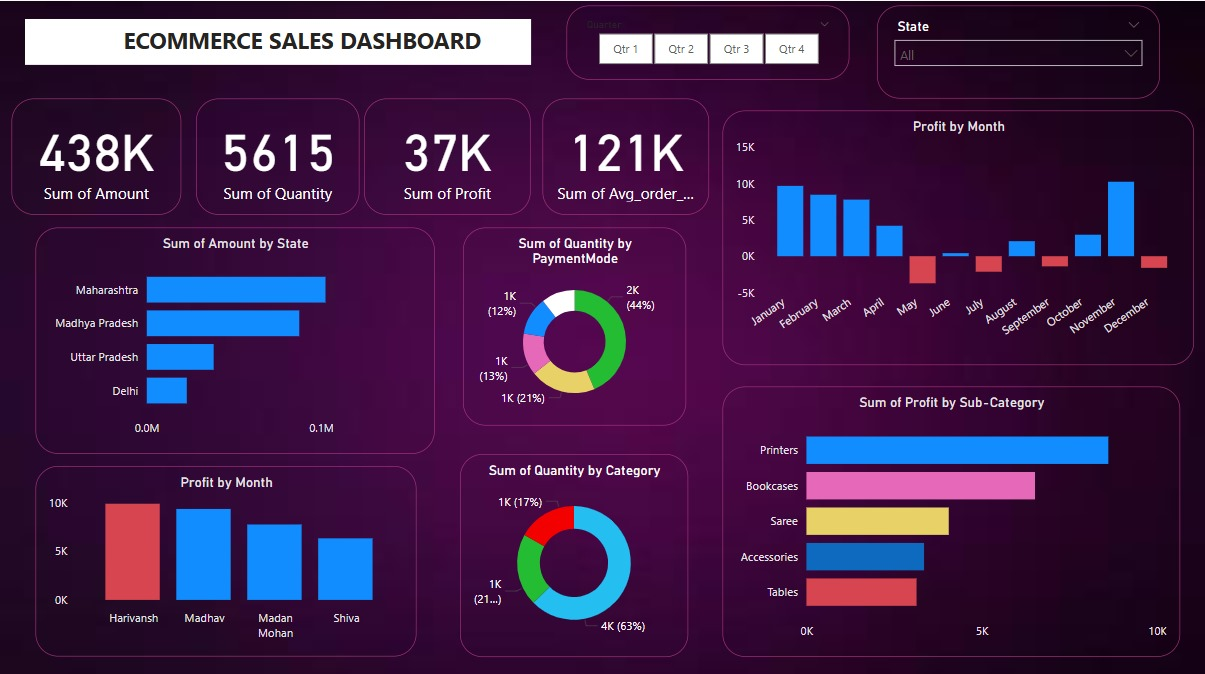

What the dashboard file says about the page in this screenshot:
{"tool":"powerbi","page":{"name":"Page 1","canvas":[1280,720],"ordinal":0},"visuals":[{"type":"textbox","box":[28.3,18.3,536.7,48.3],"z":0},{"type":"clusteredColumnChart","title":"Profit by Month","fields":{"Y":["Details.Profit"],"Category":["Orders.Order Date.Variation.Date Hierarchy.Month"]},"box":[768.3,116.7,500,270],"z":1000},{"type":"barChart","fields":{"Category":["Details.Sub-Category"],"Y":["Details.Profit"]},"box":[768.3,408.3,485,286.7],"z":2000},{"type":"donutChart","fields":{"Category":["Details.Category"],"Y":["Details.Quantity"]},"box":[490,480,241.7,215],"z":3000},{"type":"donutChart","fields":{"Category":["Details.PaymentMode"],"Y":["Details.Quantity"]},"box":[493.3,240,236.7,210],"z":4000},{"type":"card","fields":{"Values":["Details.Amount"]},"box":[15,103.3,180,123.3],"z":5000},{"type":"card","fields":{"Values":["Details.Quantity"]},"box":[210,103.3,173.3,123.3],"z":6000},{"type":"card","fields":{"Values":["Details.Profit"]},"box":[388.3,103.3,176.7,123.3],"z":7000},{"type":"card","fields":{"Values":["Details.Avg_order_val"]},"box":[576.7,103.3,176.7,123.3],"z":8000},{"type":"barChart","fields":{"Category":["Orders.State"],"Y":["Details.Amount"]},"box":[40,240,423.3,240],"z":9000},{"type":"clusteredColumnChart","title":"Profit by Month","fields":{"Category":["Orders.CustomerName"],"Y":["Details.Amount"]},"box":[39.8,493.1,404,202],"z":10000},{"type":"slicer","fields":{"Values":["Orders.Order Date.Variation.Date Hierarchy.Quarter"]},"box":[603.3,5,300,78.3],"z":11000},{"type":"slicer","fields":{"Values":["Orders.State"]},"box":[931.7,5,300,98.3],"z":12000}]}

Visuals, with their boxes in screenshot pixels (x1, y1, x2, y2), scaled from the page's 1280x720 canvas onto the 1205x674 screenshot:
textbox: bbox=(27, 17, 532, 62)
"Profit by Month" clusteredColumnChart: bbox=(723, 109, 1194, 362)
barChart - Details.Sub-Category x Details.Profit: bbox=(723, 382, 1180, 651)
donutChart - Details.Category x Details.Quantity: bbox=(461, 449, 689, 651)
donutChart - Details.PaymentMode x Details.Quantity: bbox=(464, 225, 687, 421)
card - Details.Amount: bbox=(14, 97, 184, 212)
card - Details.Quantity: bbox=(198, 97, 361, 212)
card - Details.Profit: bbox=(366, 97, 532, 212)
card - Details.Avg_order_val: bbox=(543, 97, 709, 212)
barChart - Orders.State x Details.Amount: bbox=(38, 225, 436, 449)
"Profit by Month" clusteredColumnChart: bbox=(37, 462, 418, 651)
slicer - Orders.Order Date.Variation.Date Hierarchy.Quarter: bbox=(568, 5, 850, 78)
slicer - Orders.State: bbox=(877, 5, 1160, 97)
